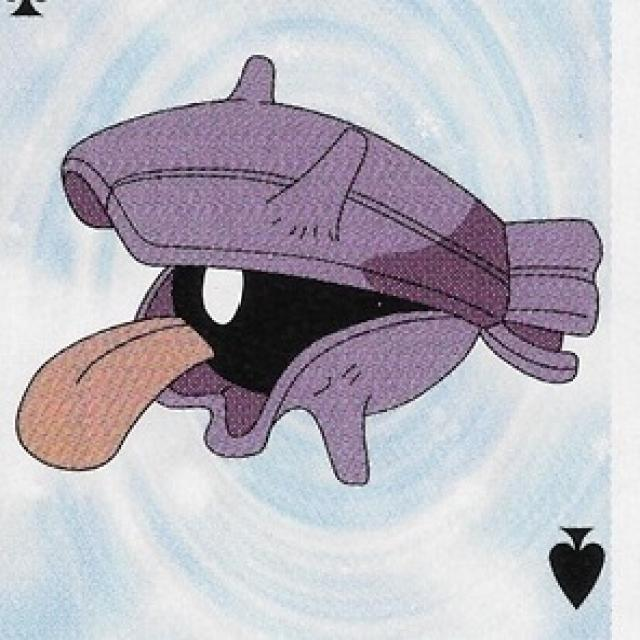Shellder: (17, 69, 589, 486)
